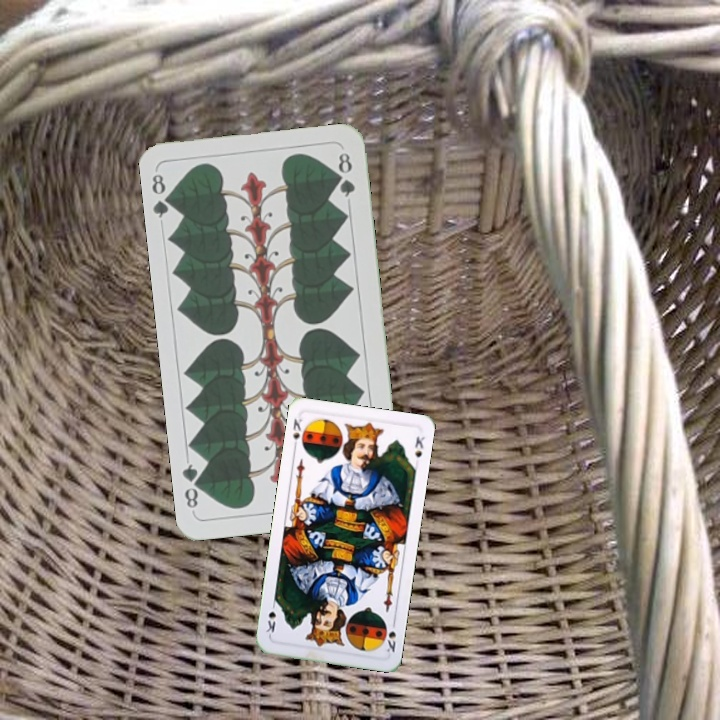G8: (148, 170, 177, 221)
SK: (380, 616, 399, 655), (289, 414, 305, 452)
